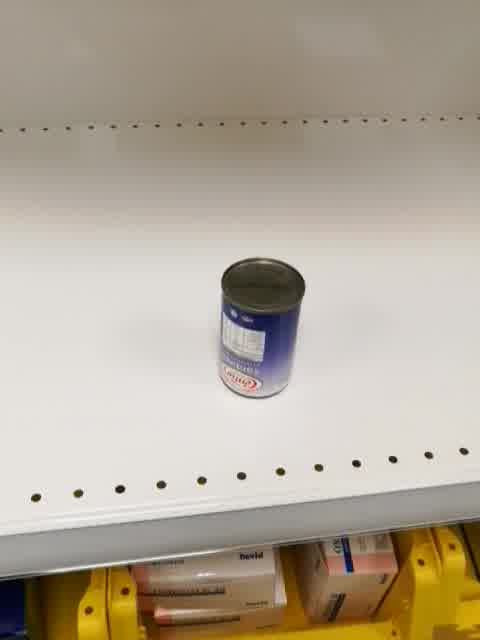sardine: (217, 258, 306, 400)
